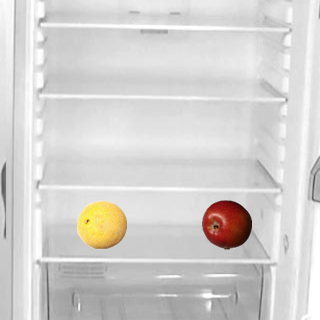Apple Braeburn: (201, 199, 251, 249)
Cantaloupe 1: (76, 199, 126, 249)
